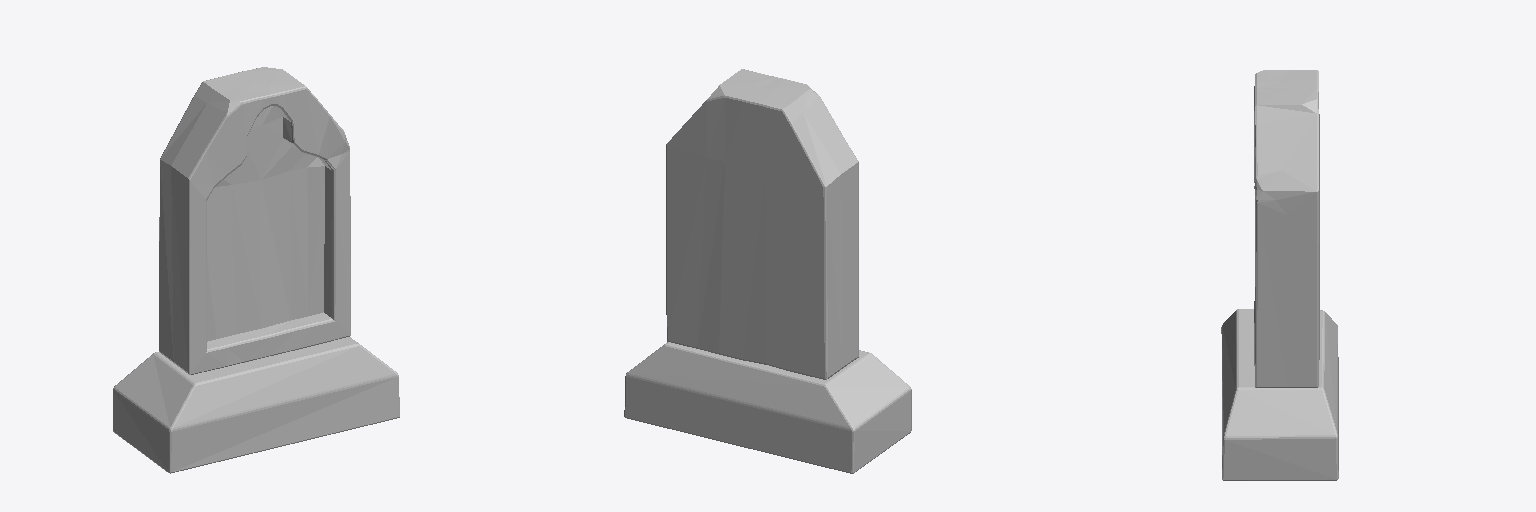
File: Grabstein02_LP_Uwrapped_zbrush.obj
3 renders of one model, left to right at view 1: azimuth 30°, elevation 25°; view 2: azimuth 150°, elevation 25°; view 3: azimuth 270°, elevation 25°, orthographic.
Parts seen in each view (by area): view 1: Grabstein02_LP_Uwrapped_zbrush; view 2: Grabstein02_LP_Uwrapped_zbrush; view 3: Grabstein02_LP_Uwrapped_zbrush.
Boxes of the visible parts, x1,y1,x2,y2 form: Grabstein02_LP_Uwrapped_zbrush: [113, 67, 399, 473]; Grabstein02_LP_Uwrapped_zbrush: [624, 69, 911, 473]; Grabstein02_LP_Uwrapped_zbrush: [1221, 70, 1338, 480].
Size of the model in its own units: 3.05 by 4.29 by 1.34.